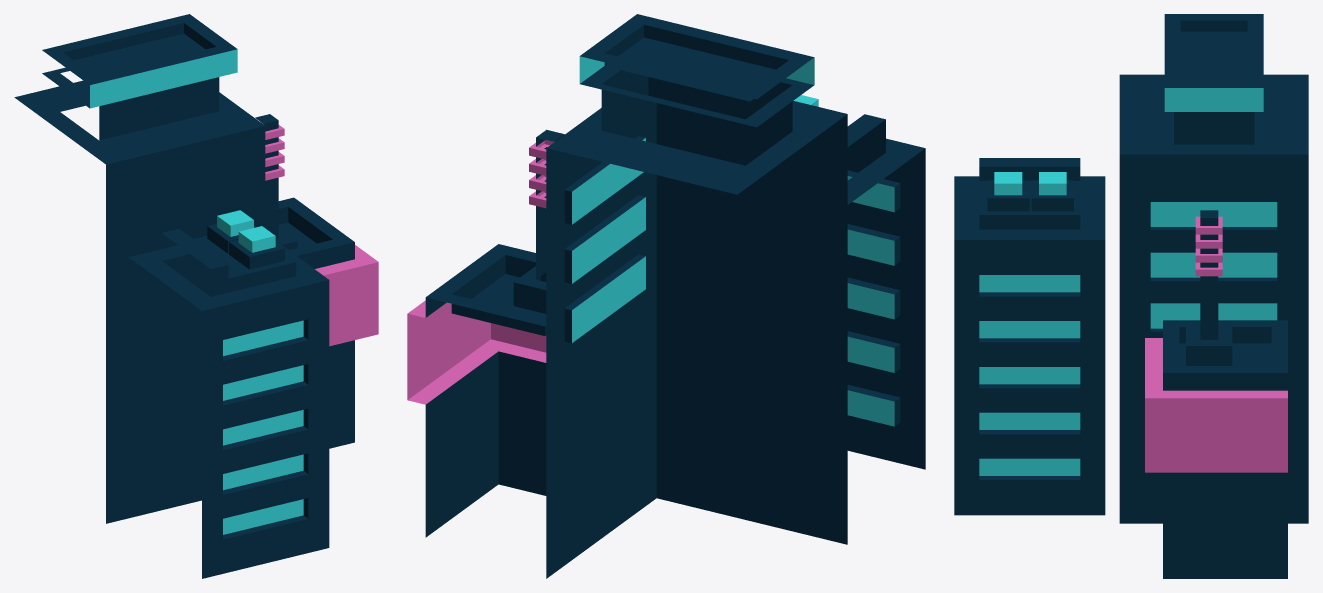
3 renders of one model, left to right at view 1: azimuth 30°, elevation 25°; view 2: azimuth 150°, elevation 25°; view 3: azimuth 270°, elevation 25°, orthographic. The views are drawn at different scales.
Parts seen in each view (by area): view 1: floor; view 2: floor; view 3: floor.
Part boxes in pixels (x1=…): floor: x1=14, y1=14, x2=378, y2=578; floor: x1=407, y1=14, x2=925, y2=578; floor: x1=954, y1=14, x2=1308, y2=578.
Bounding box in the file's own units: 1.67 × 2.36 × 1.75.
